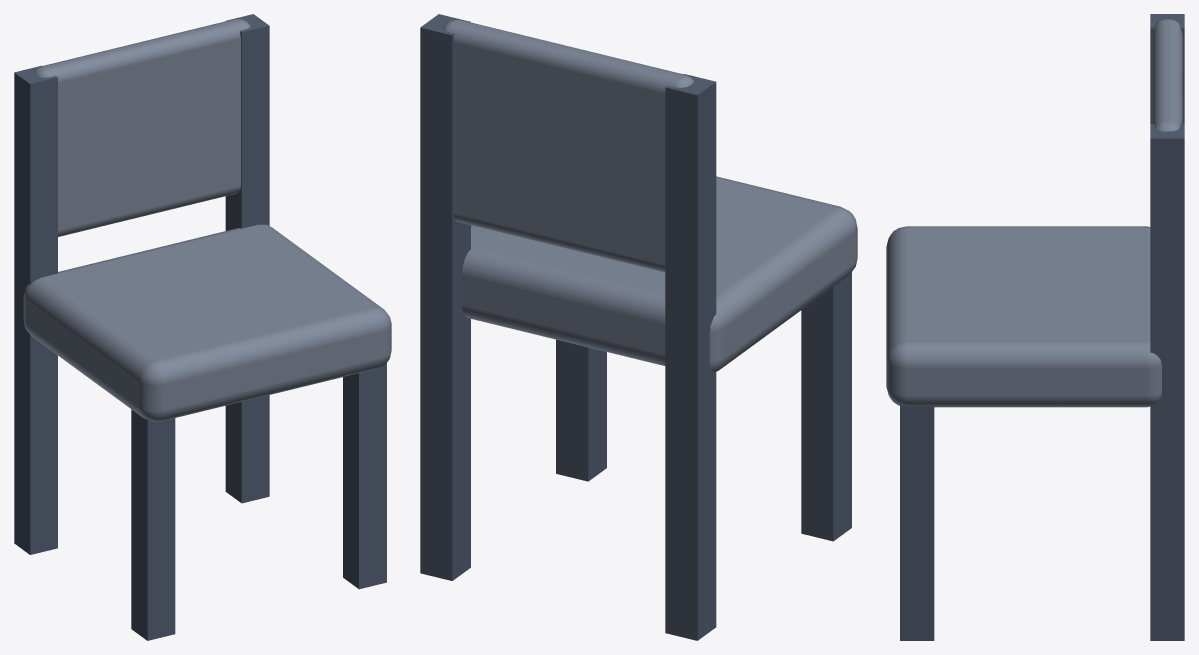
Rendered from chair.glb.
The picture shows the model from 3 angles, left to right: view 1: azimuth 30°, elevation 25°; view 2: azimuth 150°, elevation 25°; view 3: azimuth 270°, elevation 25°; orthographic projection. The views are drawn at different scales.
Visible parts, largest first — view 1: chair; view 2: chair; view 3: chair.
Part boxes in pixels (left/top/right/bottom): chair: left=14, top=14, right=391, bottom=640; chair: left=420, top=14, right=857, bottom=640; chair: left=886, top=14, right=1184, bottom=640.
Size of the model in its own units: 0.45 by 0.817 by 0.435.
